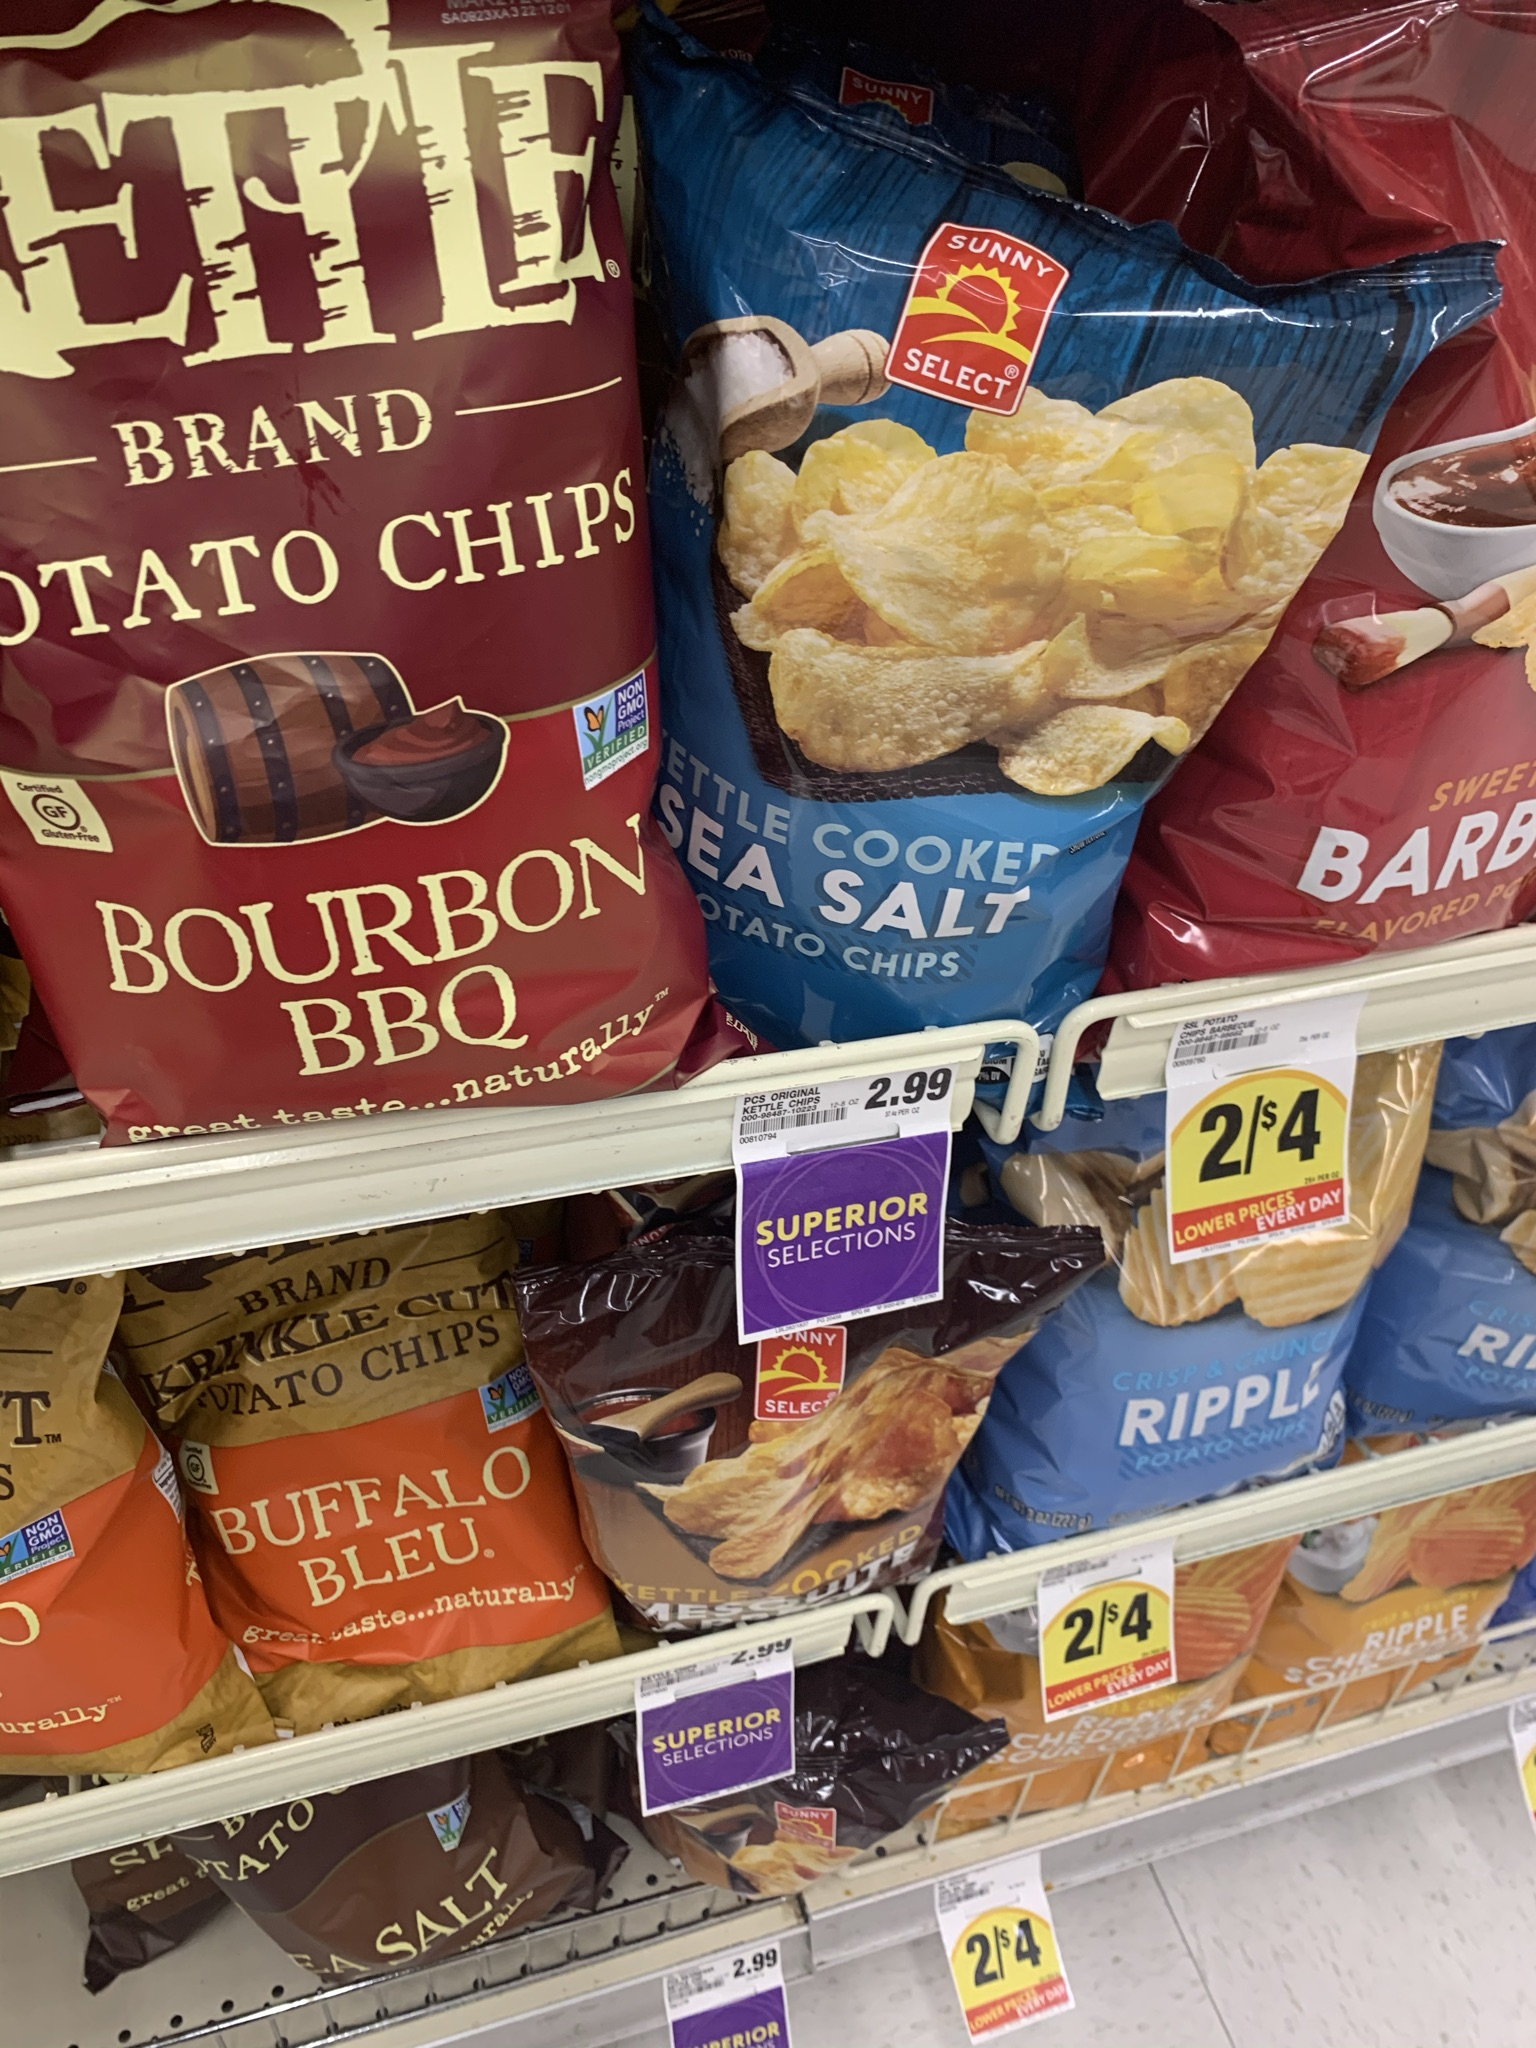Chips: (2, 2, 699, 1089)
